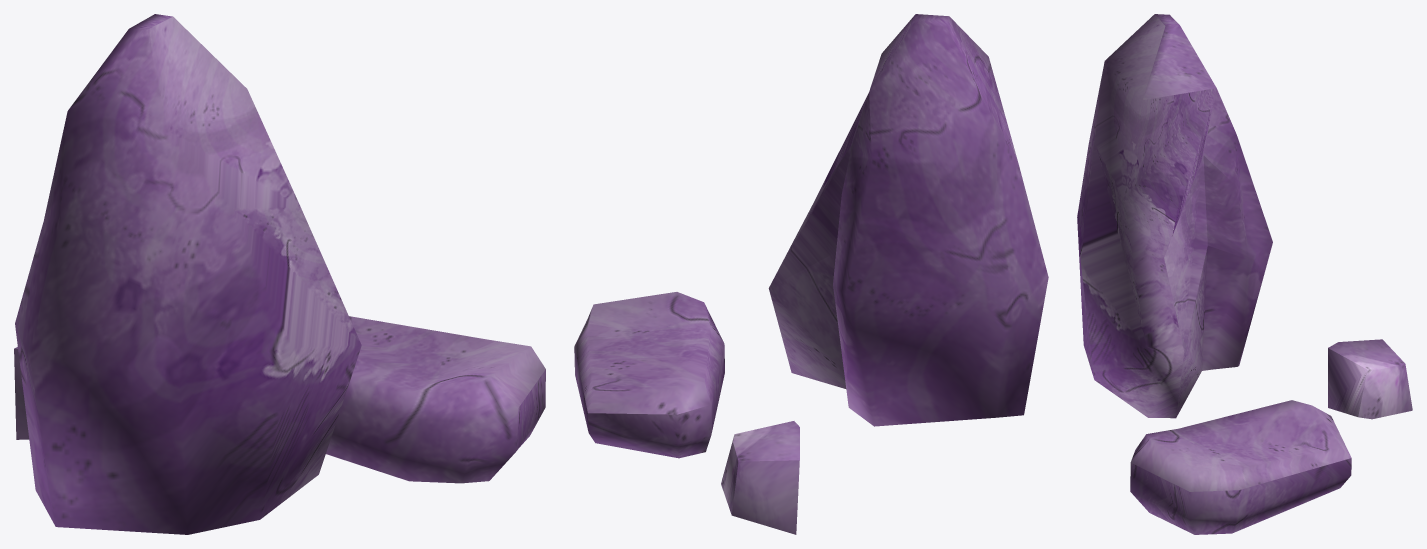
Rendered from polygonalmind-momuspark-039.glb.
3 renders of one model, left to right at view 1: azimuth 30°, elevation 25°; view 2: azimuth 150°, elevation 25°; view 3: azimuth 270°, elevation 25°, orthographic. The views are drawn at different scales.
Visible parts, largest first — view 1: Rock_05_Art; view 2: Rock_05_Art; view 3: Rock_05_Art.
Part boxes in pixels (bbox=[...]): Rock_05_Art: bbox=[14, 14, 545, 534]; Rock_05_Art: bbox=[574, 14, 1048, 534]; Rock_05_Art: bbox=[1077, 14, 1412, 534].
Size of what is drawn, in the model's own units: 2.71 by 2.61 by 2.03.
Materials: 1 (1 with a texture image).
